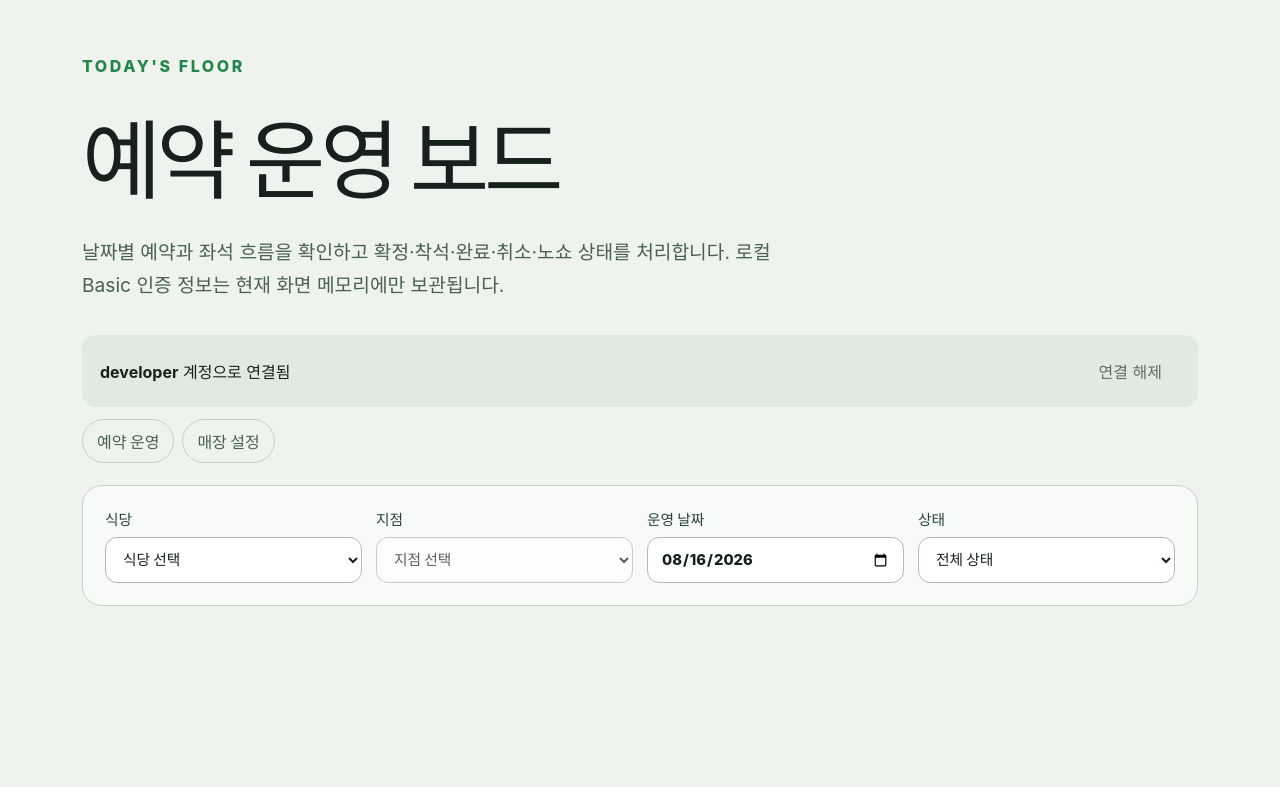
AdminReservationPage › uses the shared in-memory session and renders the selected branch board
The image size is (1280, 787).
Select "TableFlow" in the dropdown labelled "식당" at (234, 560), box [105,538,362,584]
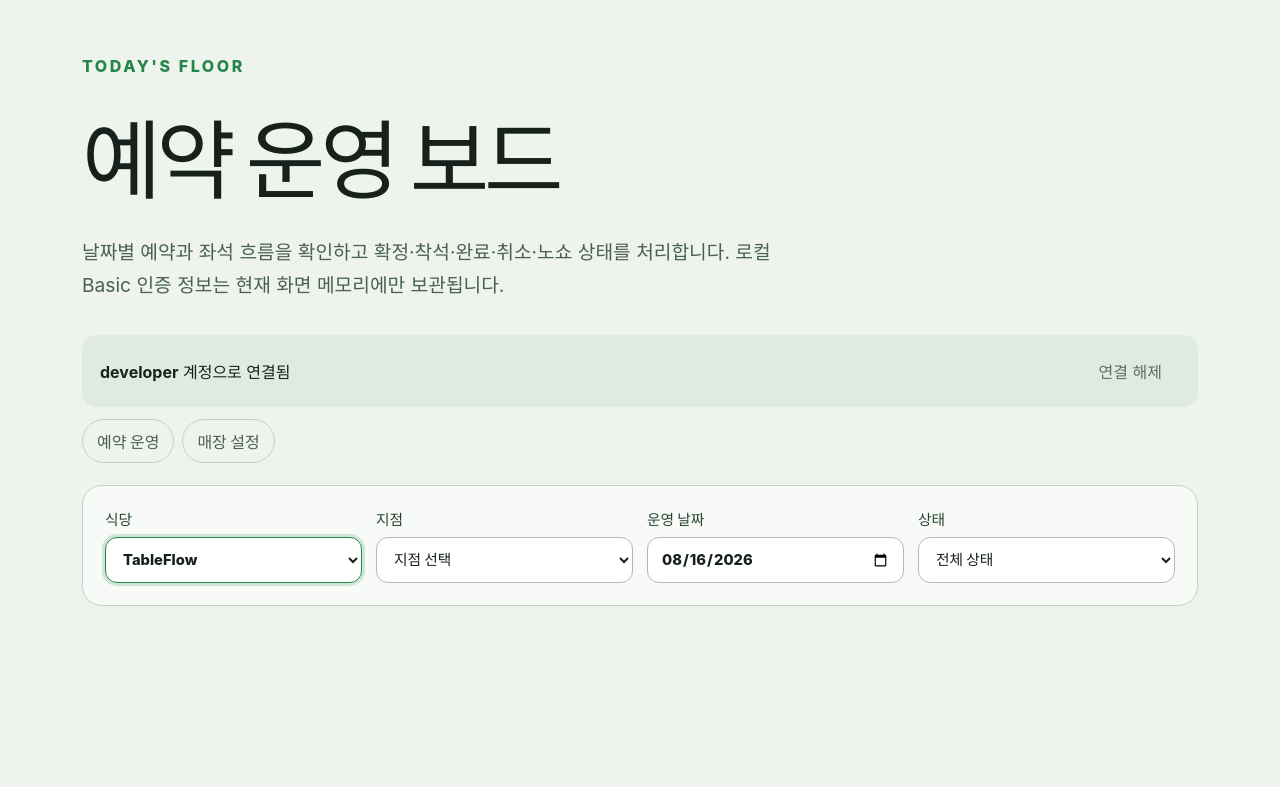
Select "강남점" in the dropdown labelled "지점" at (504, 560), box [376,538,633,584]
(page scrolled)
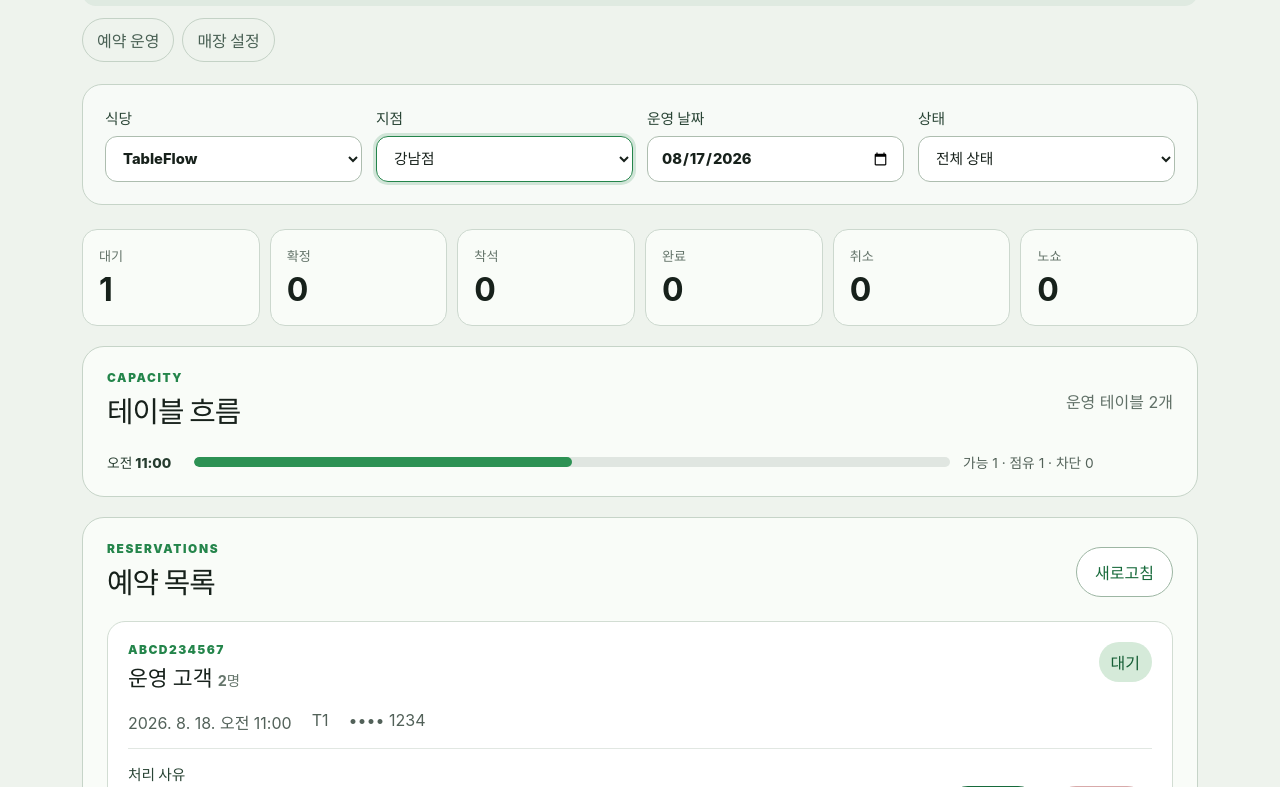
Expected: the heading "운영 고객 2명" is shown, [128,662,240,692]
Expected: the text "•••• 1234" is shown, [348,710,426,734]
Expected: the text "운영 테이블 2개" is shown, [1066,389,1173,413]
